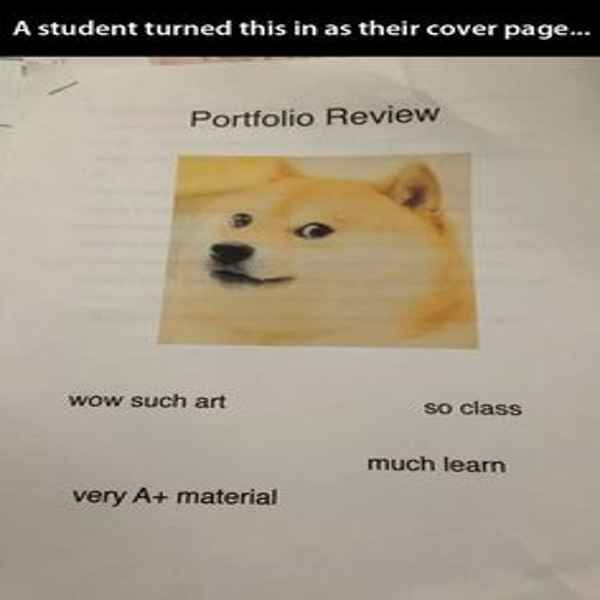doge: (196, 163, 459, 331)
